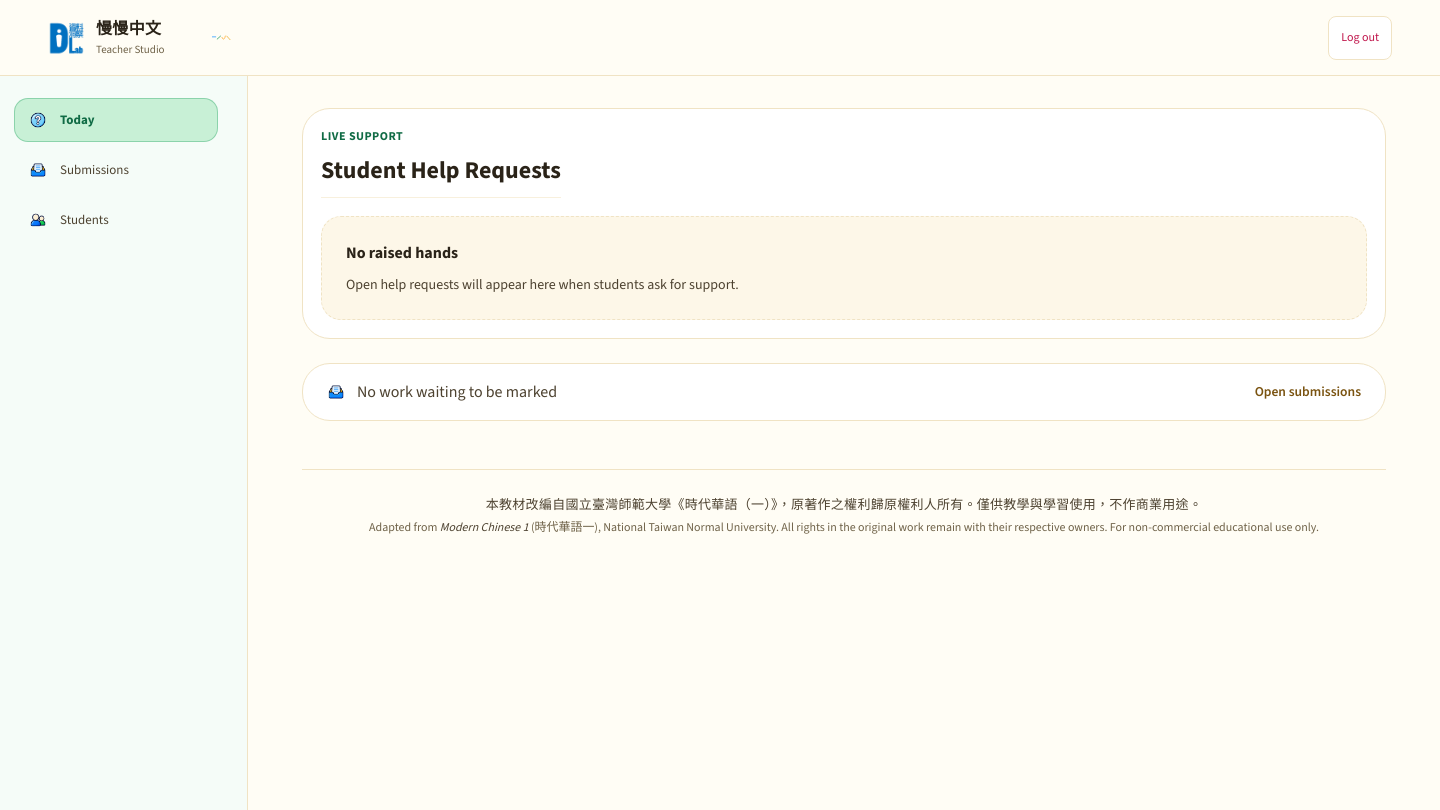
Test: Quiz analytics on the Students view › shows class-wide quiz attempts and accuracy
Click the button "Students".
click(116, 220)  # box [14,198,218,242]
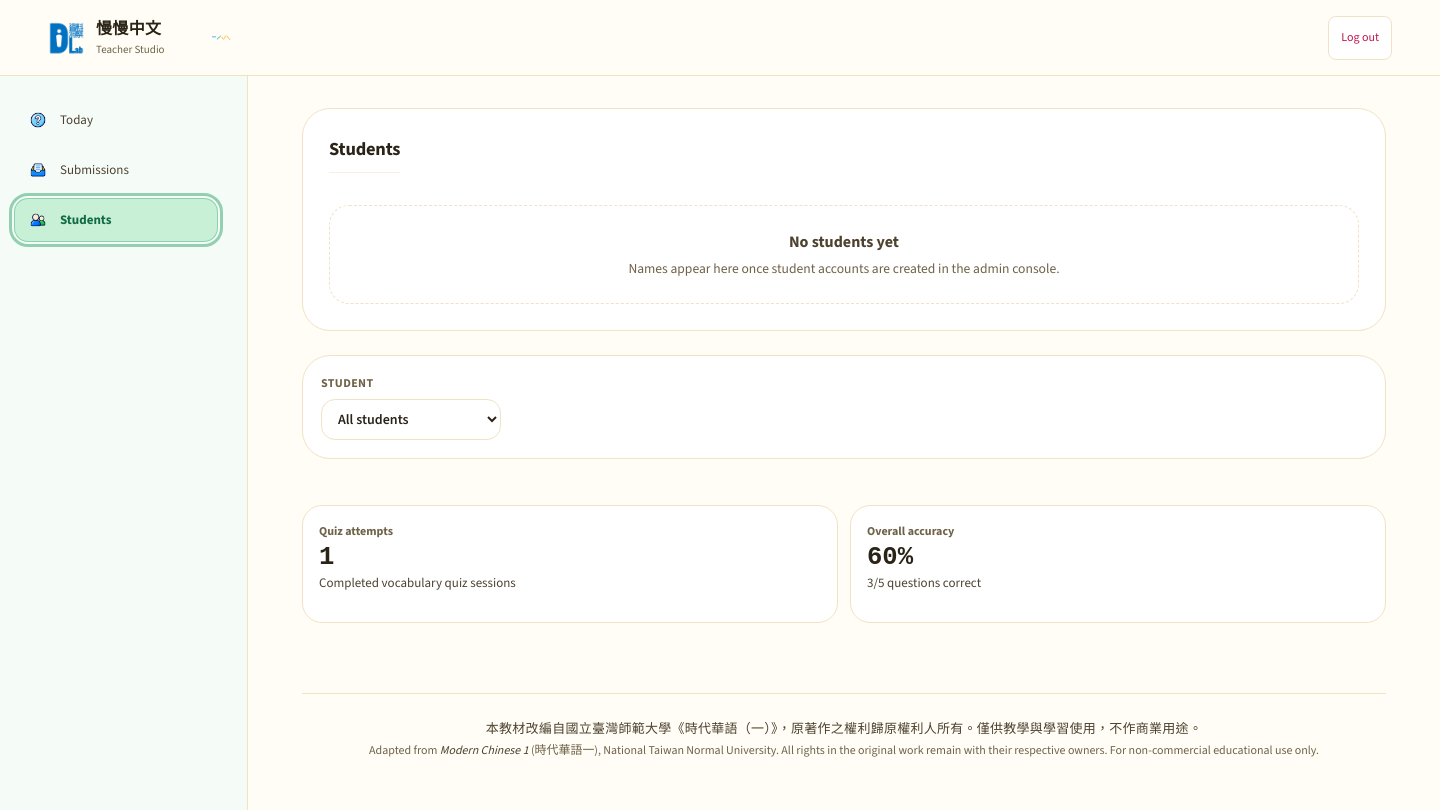
Expected: the text "1" is shown, [319,543,334,572]
Expected: the text "60%" is shown, [867,543,913,572]
